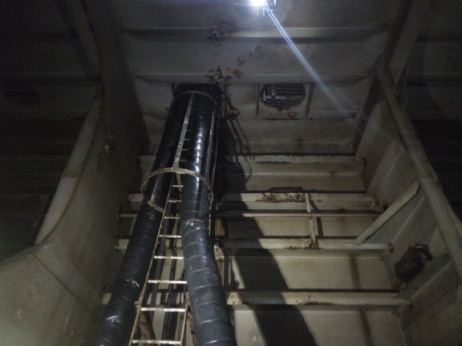corrosion: (198, 61, 240, 81), (207, 19, 247, 39)
